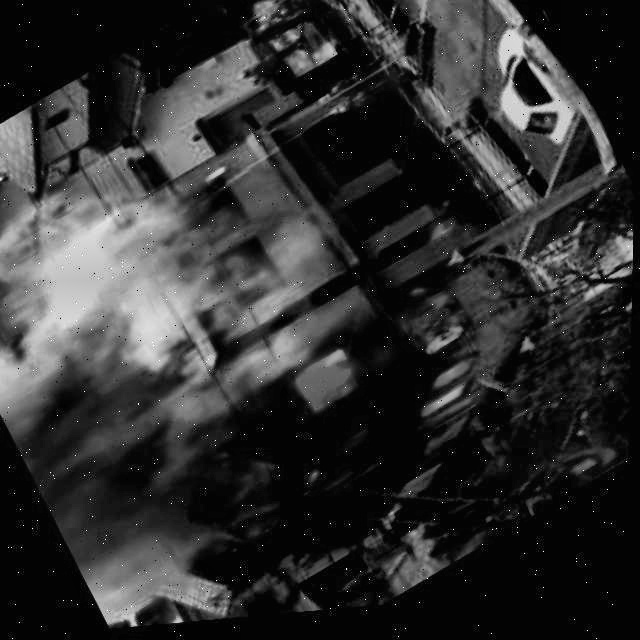Fire: (177, 206, 564, 575)
Smoke: (0, 91, 263, 640)
